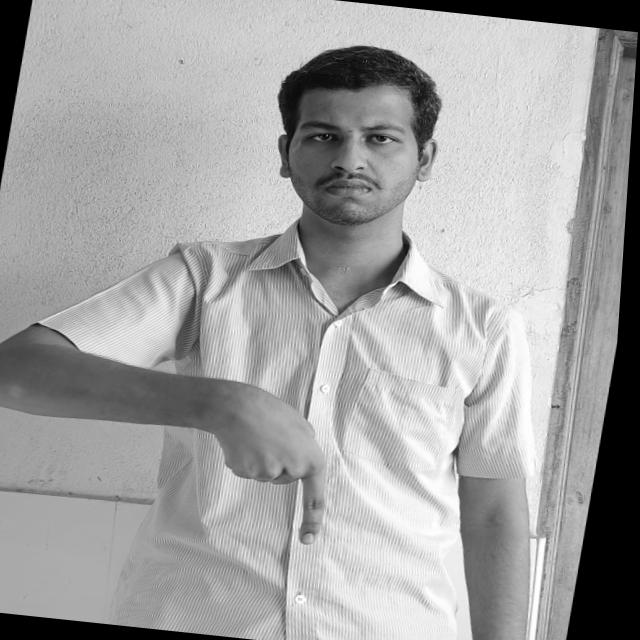Now: (194, 386, 358, 548)
